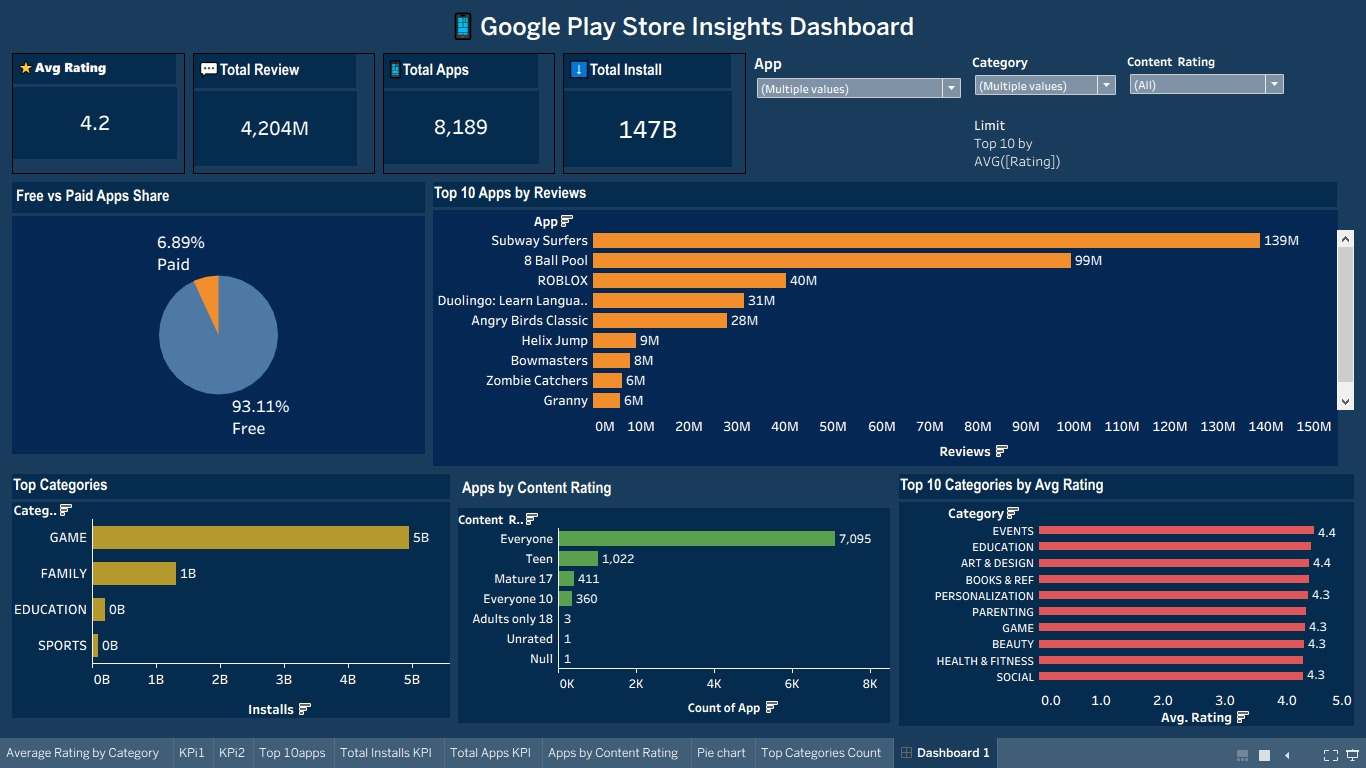

What the dashboard file says about the page in this screenshot:
{"tool":"tableau","page":{"name":"Dashboard 1","canvas":[1000,1000],"units":"permille","ordinal":0},"visuals":[{"type":"title","box":[6.9,12.7,986.1,64.9]},{"type":"worksheet","title":"KPi1","mark":"Automatic","box":[6.9,77.5,132.4,172.3]},{"type":"worksheet","title":"KPi2","mark":"Automatic","box":[139.4,77.5,138.6,172.3]},{"type":"worksheet","title":"Total Apps KPI","mark":"Automatic","box":[277.9,77.5,131.8,172.3]},{"type":"worksheet","title":"Total Installs KPI","mark":"Automatic","box":[409.7,77.5,139.3,172.3]},{"type":"filter","title":"KPi1","param":"[federated.17wioou13qs0rv1cx0tfy11ntlgk].[none:Type:nk]","box":[549.1,77.5,159.2,172.3]},{"type":"filter","title":"Average Rating by Category","param":"[federated.17wioou13qs0rv1cx0tfy11ntlgk].[none:Category:nk]","box":[708.2,77.5,134.2,172.3]},{"type":"filter","title":"Apps by Content Rating","param":"[federated.17wioou13qs0rv1cx0tfy11ntlgk].[none:Content _Rating:nk]","box":[842.4,77.5,145.5,172.3]},{"type":"worksheet","title":"Pie chart","mark":"Pie","box":[6.9,249.8,307.5,390.8]},{"type":"worksheet","title":"Top 10apps","mark":"Automatic","rows":["App"],"cols":["Reviews"],"box":[314.4,249.8,678.7,390.8]},{"type":"worksheet","title":"Top Categories Count","mark":"Automatic","rows":["Category"],"cols":["Installs"],"box":[6.9,640.6,326.1,346.7]},{"type":"worksheet","title":"Apps by Content Rating","mark":"Automatic","rows":["Content _Rating"],"cols":["App"],"box":[333,640.6,321.7,346.7]},{"type":"worksheet","title":"Average Rating by Category","mark":"Automatic","rows":["Category"],"cols":["Rating"],"box":[654.7,640.6,338.4,346.7]}]}

Visuals, with their boxes on the dashboard's canvas, which has no fixed pixel size, in thousandths of its width and height (x1, y1, x2, y2). These are canvas units, not pixel positions in the 1366x768 screenshot, which may show the page scaled, cropped or inside an application window:
title: box(7, 13, 993, 78)
"KPi1" worksheet: box(7, 78, 139, 250)
"KPi2" worksheet: box(139, 78, 278, 250)
"Total Apps KPI" worksheet: box(278, 78, 410, 250)
"Total Installs KPI" worksheet: box(410, 78, 549, 250)
"KPi1" filter: box(549, 78, 708, 250)
"Average Rating by Category" filter: box(708, 78, 842, 250)
"Apps by Content Rating" filter: box(842, 78, 988, 250)
"Pie chart" worksheet (Pie marks): box(7, 250, 314, 641)
"Top 10apps" worksheet: box(314, 250, 993, 641)
"Top Categories Count" worksheet: box(7, 641, 333, 987)
"Apps by Content Rating" worksheet: box(333, 641, 655, 987)
"Average Rating by Category" worksheet: box(655, 641, 993, 987)
